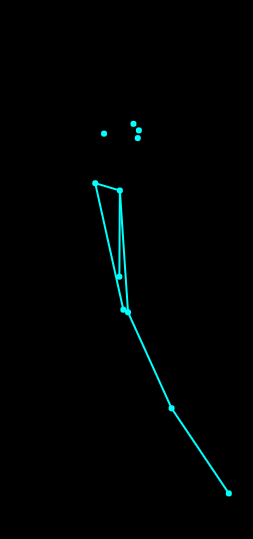warrior_1: (68, 104, 234, 508)
